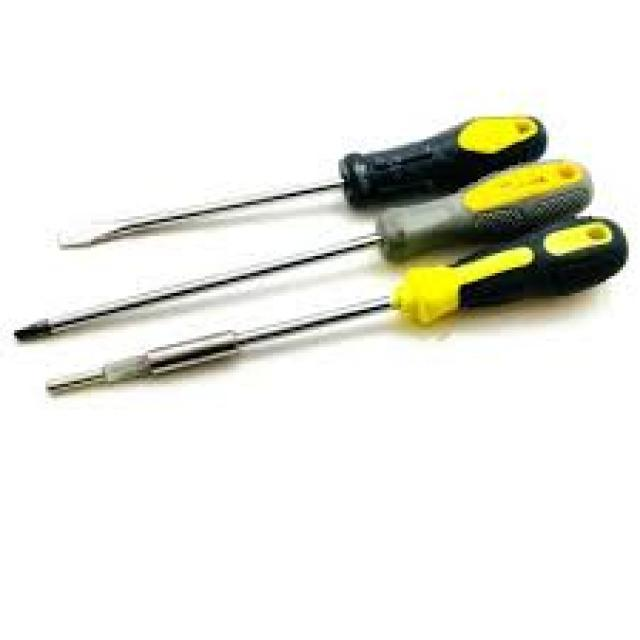screwdriver: (7, 156, 599, 347), (38, 212, 630, 394), (56, 105, 556, 253)
